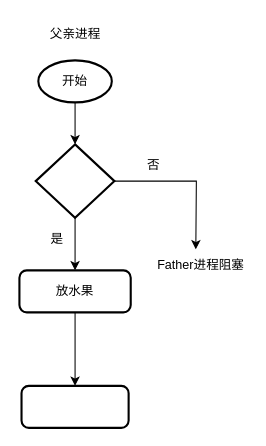
This 266x446 diagram has some shape labels left out. The shapes that lost their labels are listed below. From the top down, each one's centre as x and y in pixels, then its label:
At (74,180): "盘子是否为空？".
At (74,406): "唤醒daughter进程".
